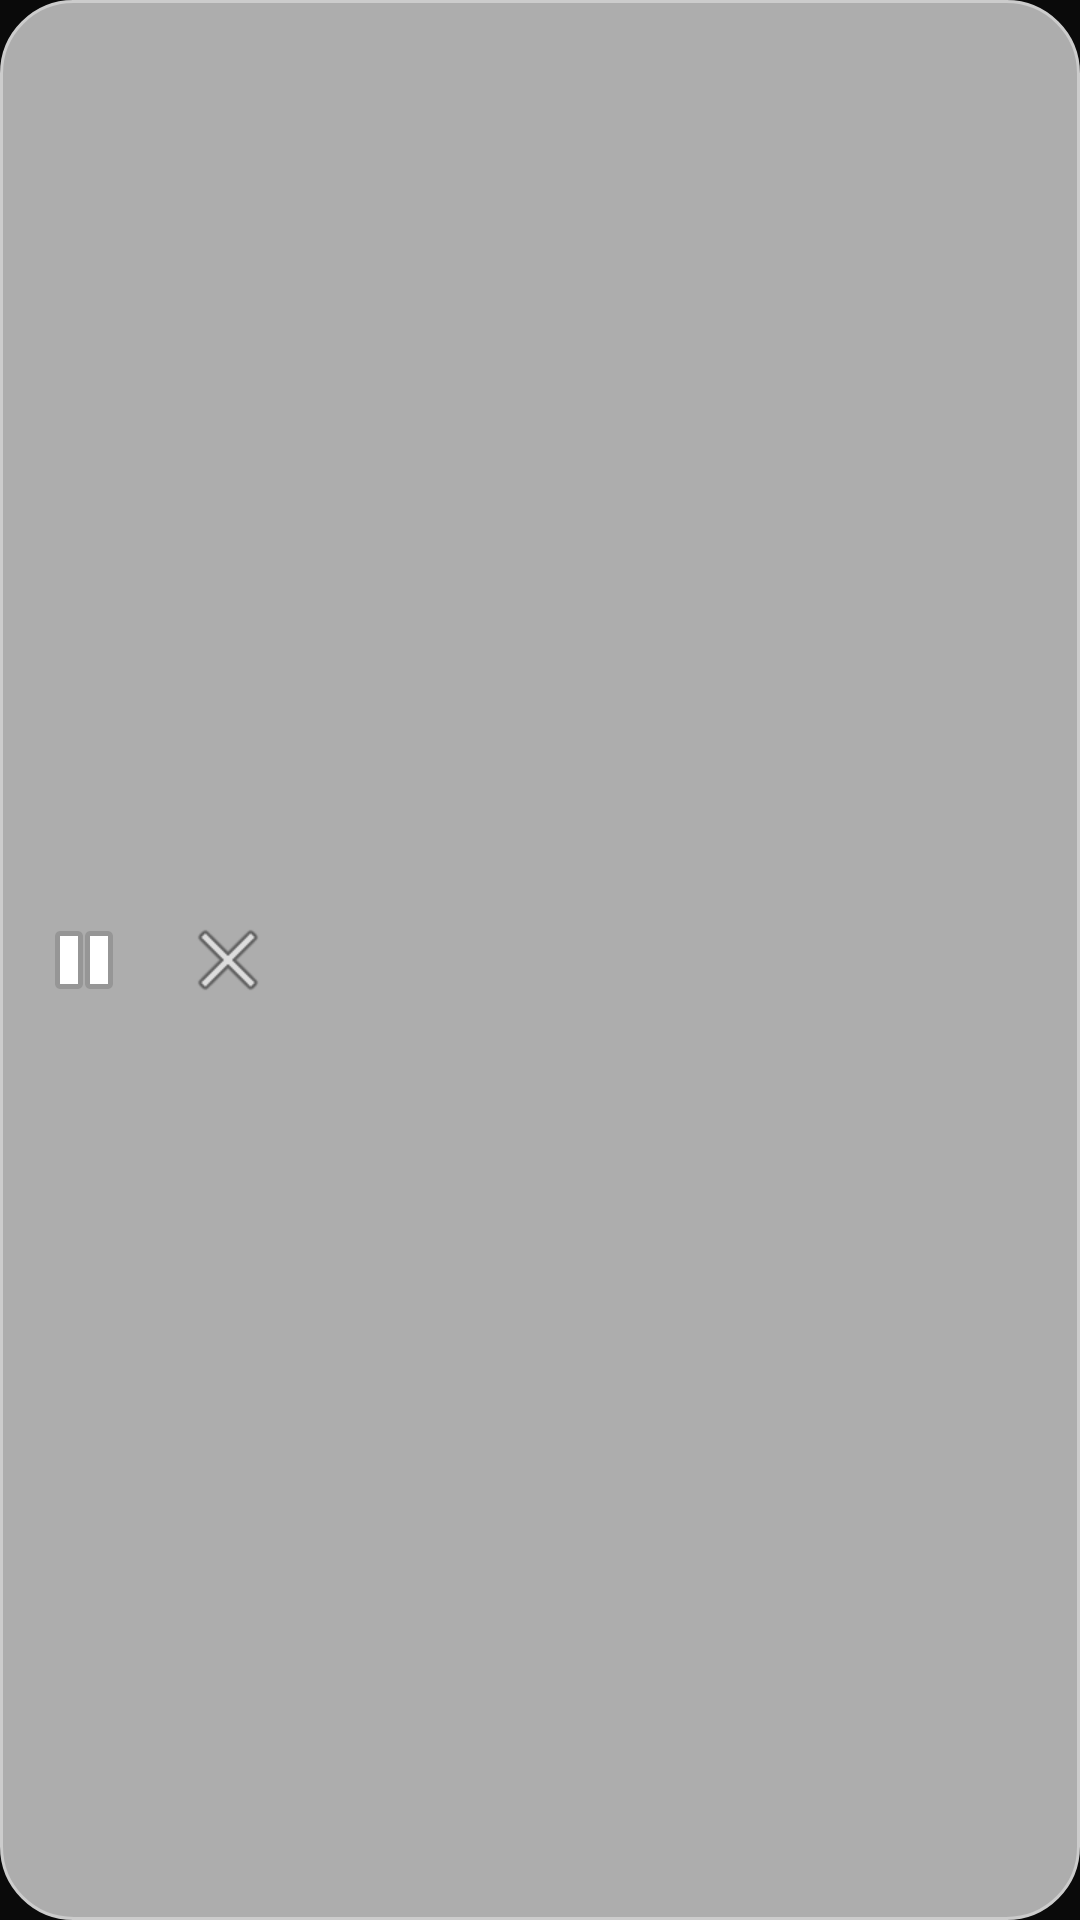

Where icons sit on this 1080px×1920px app screen, as [x1, y1, x2, y2]:
close clear cancel: [198, 930, 258, 990]
Pause: [60, 936, 108, 984]
